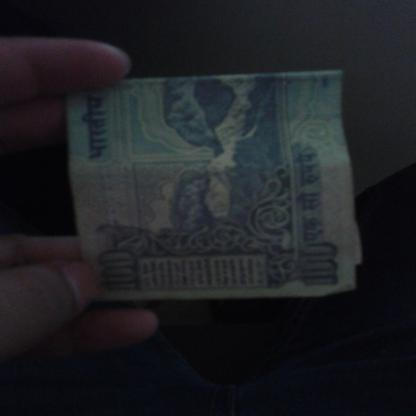Old100Back: (69, 70, 363, 301)
